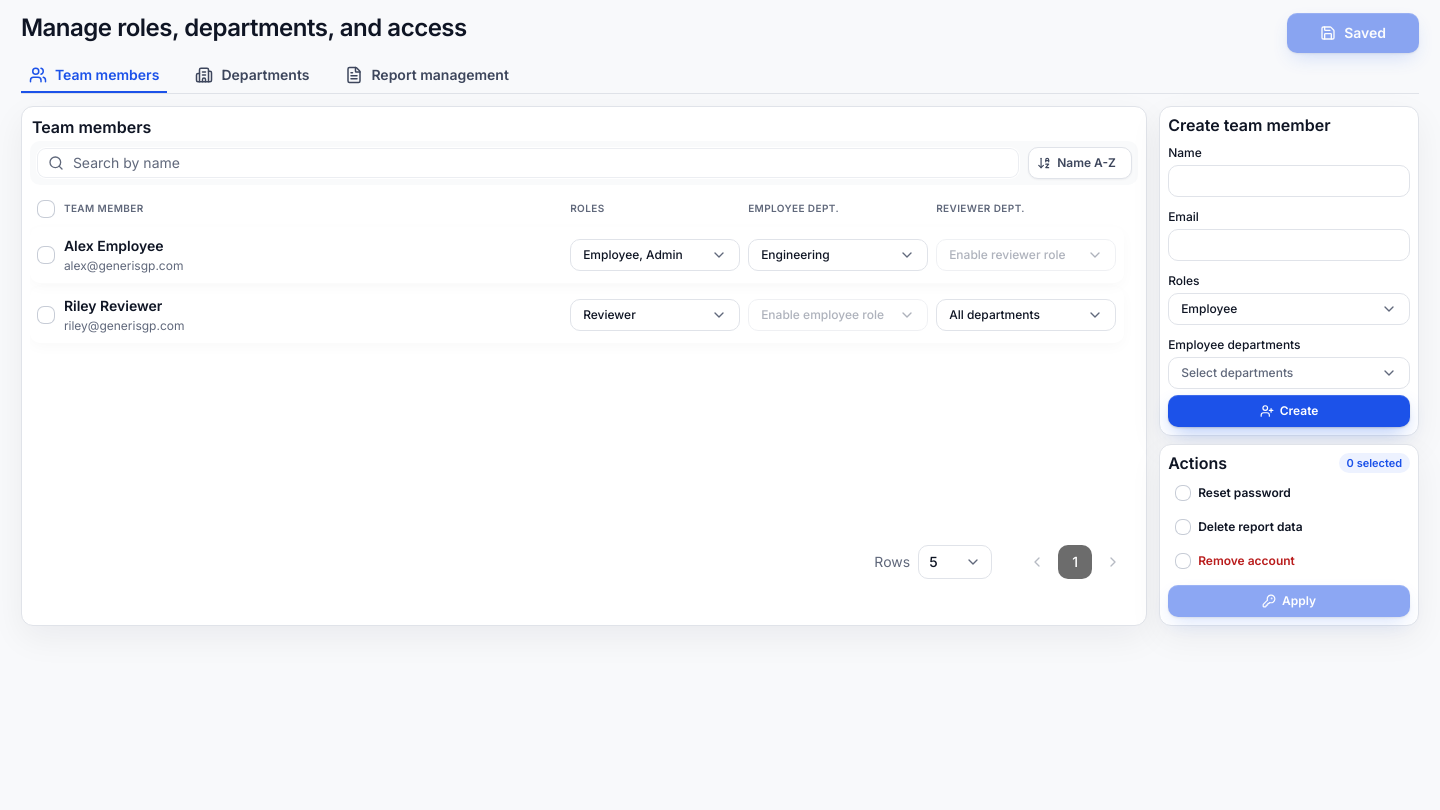
Test: AdminUsers › shows generated passwords when a later selected reset fails
Click the checkbox named "Select Alex Employee".
click(46, 255)  # box 38,247 -> 54,263
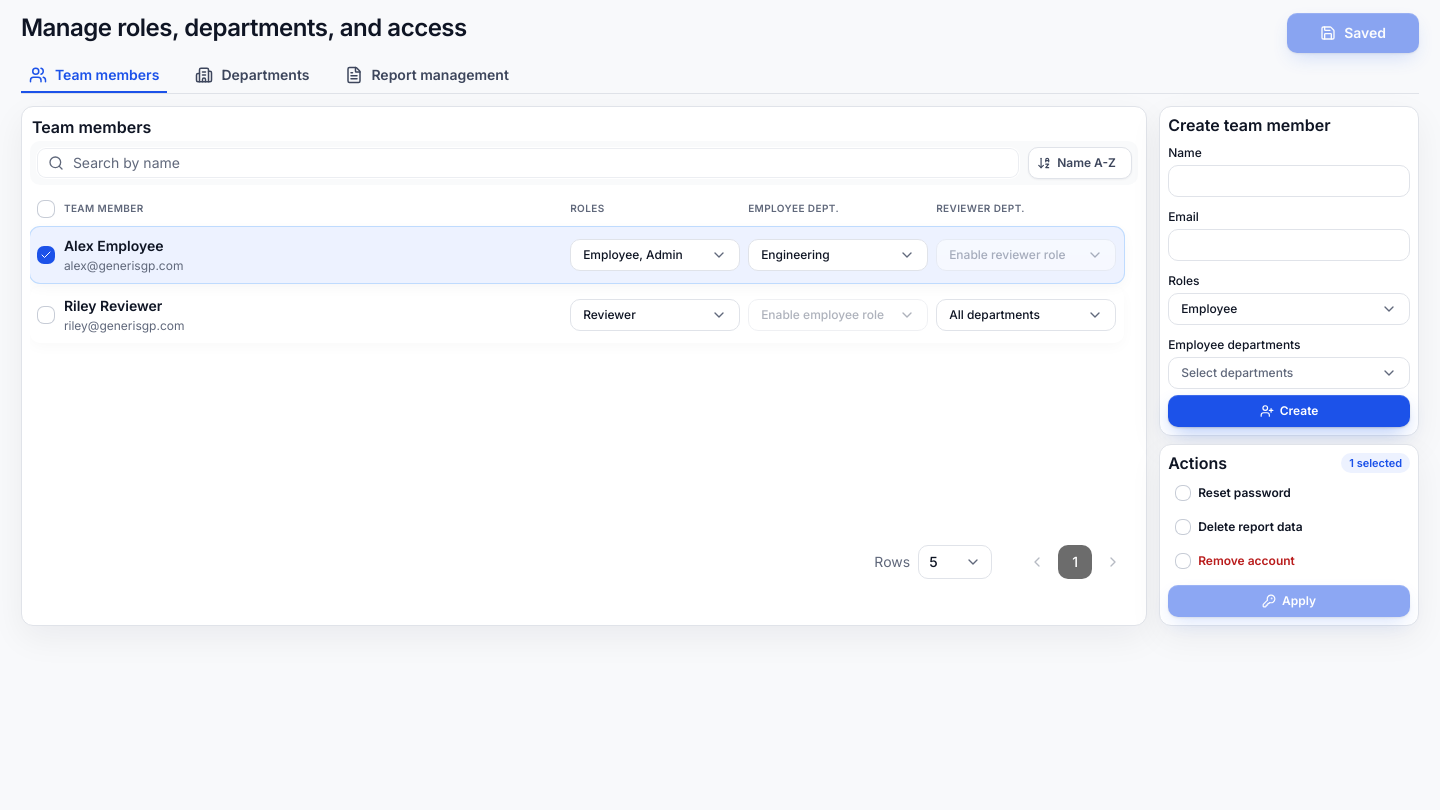
Click the checkbox named "Select Riley Reviewer".
click(46, 315)  # box 38,307 -> 54,323
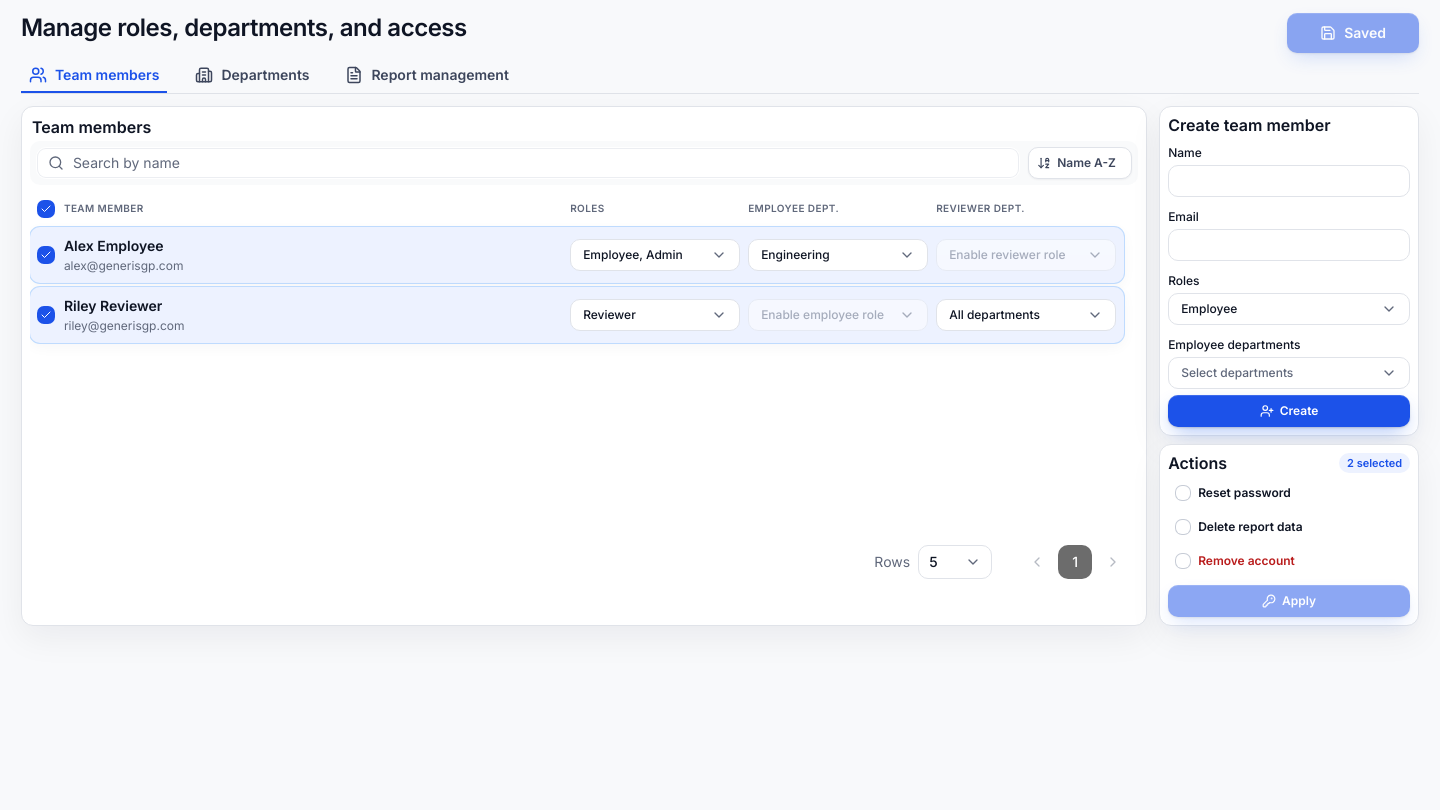
Click the 4th checkbox labelled "Reset password".
click(1233, 493)  # box 1176,486 -> 1291,500
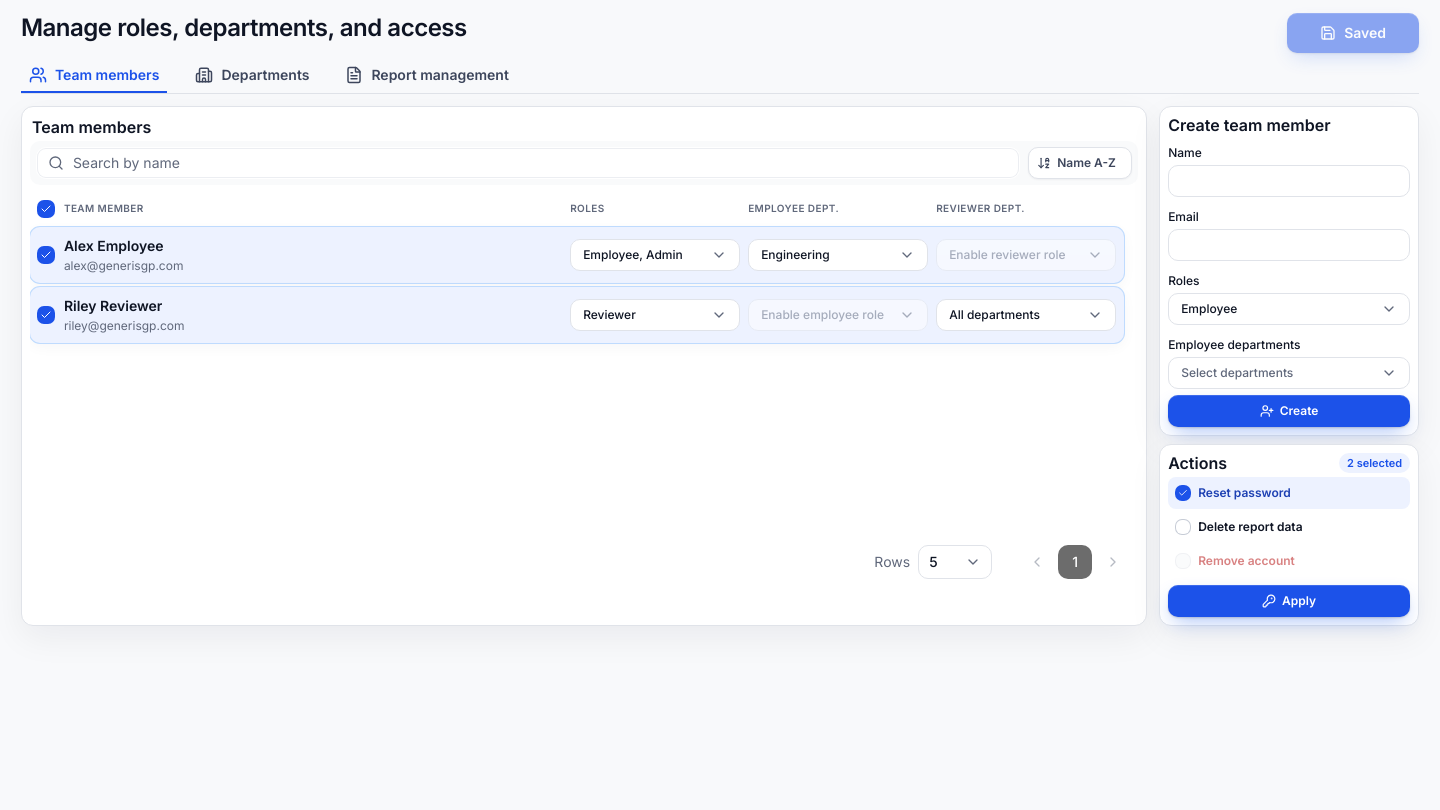
Click the button "Apply".
click(1289, 602)  # box 1168,586 -> 1410,618
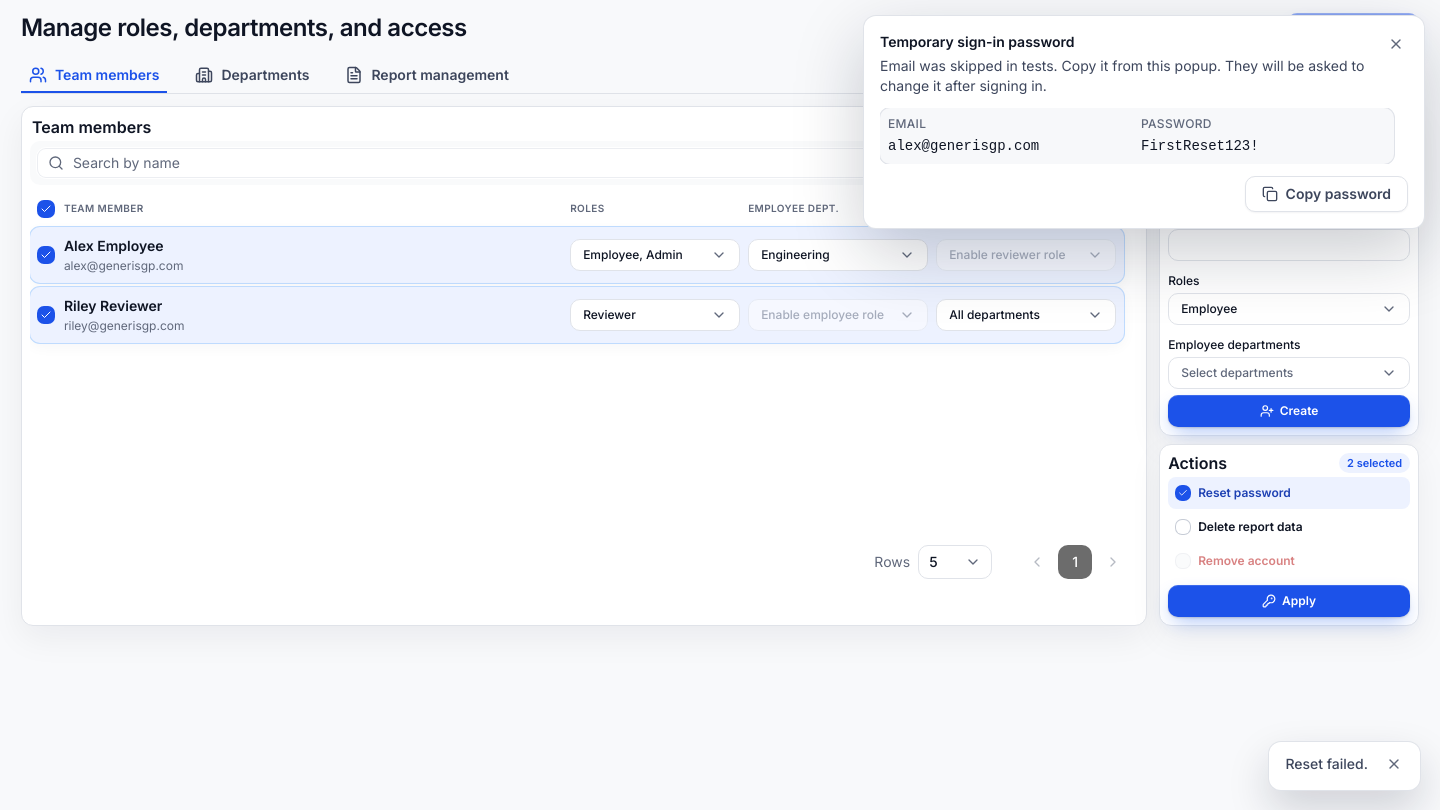
Result: the text "alex@generisgp.com" next to "FirstReset123!" is shown at 888,138 -> 1039,154
Result: the text "FirstReset123!" is shown at 1141,138 -> 1259,154
Result: the text "Reset failed." is shown at 1285,754 -> 1368,774
